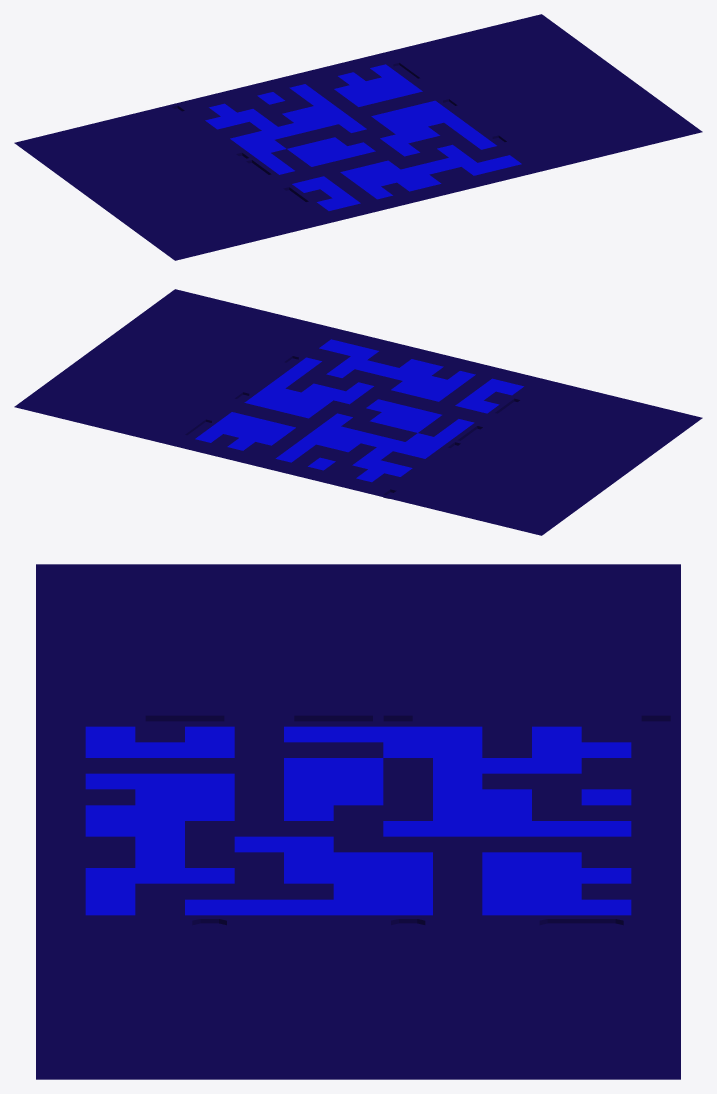
File: floor1.glb
3 renders of one model, top to bottom at view 1: azimuth 30°, elevation 25°; view 2: azimuth 150°, elevation 25°; view 3: azimuth 270°, elevation 25°, orthographic. The views are drawn at different scales.
Parts seen in each view (by area): view 1: floor1; view 2: floor1; view 3: floor1.
Boxes of the visible parts, box(x1,y1,x2,y2) form: floor1: box(14, 14, 702, 260); floor1: box(14, 289, 702, 535); floor1: box(36, 564, 680, 1079).
Bounding box in the file's own units: 38.1 × 0.1968 × 20.15.
